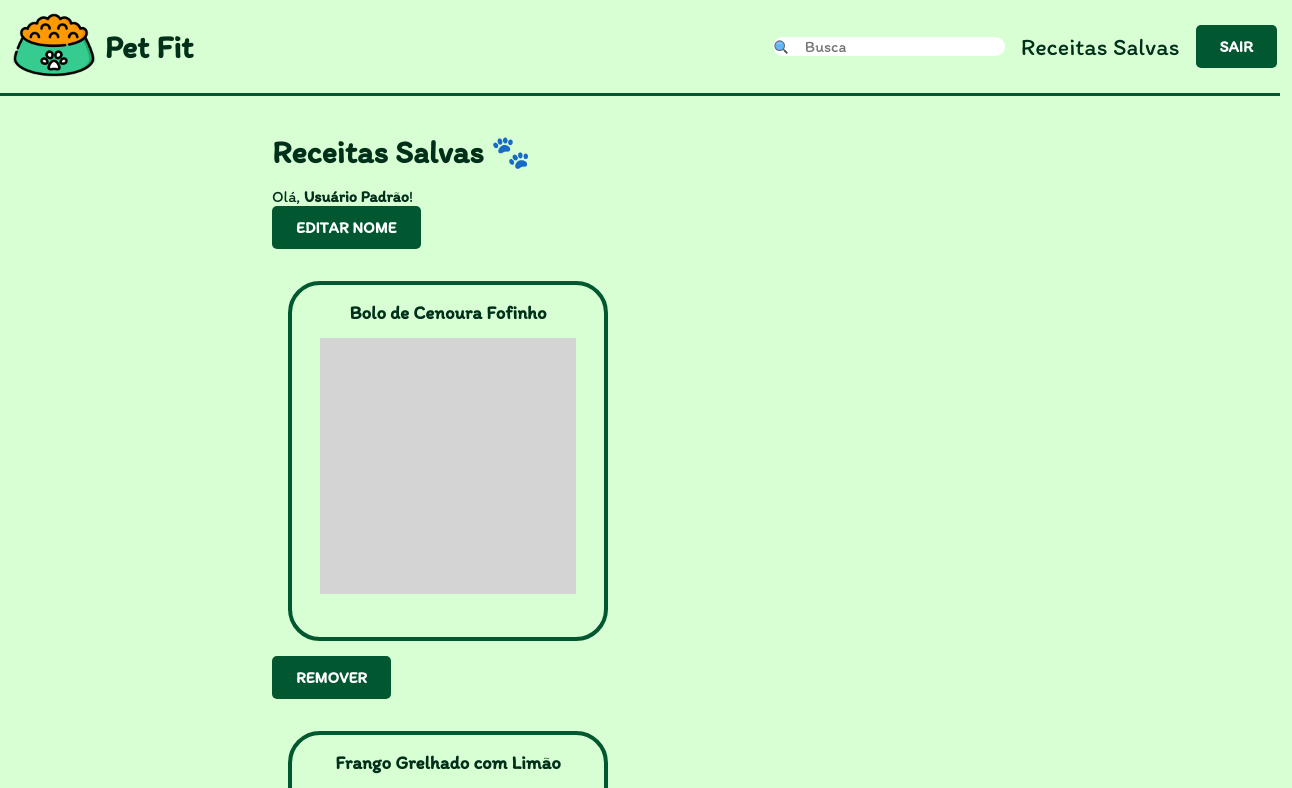
Página: SavedRecipes › deve remover uma receita da lista ao clicar em "Remover"
Expected: the heading "Bolo de Cenoura Fofinho" is shown, top-left (349, 301), bottom-right (546, 324)
What coordinates should you click on to do the following:
click the button "Remover"
I would click on:
 (331, 677)
Its box is top-left (272, 656), bottom-right (391, 698).
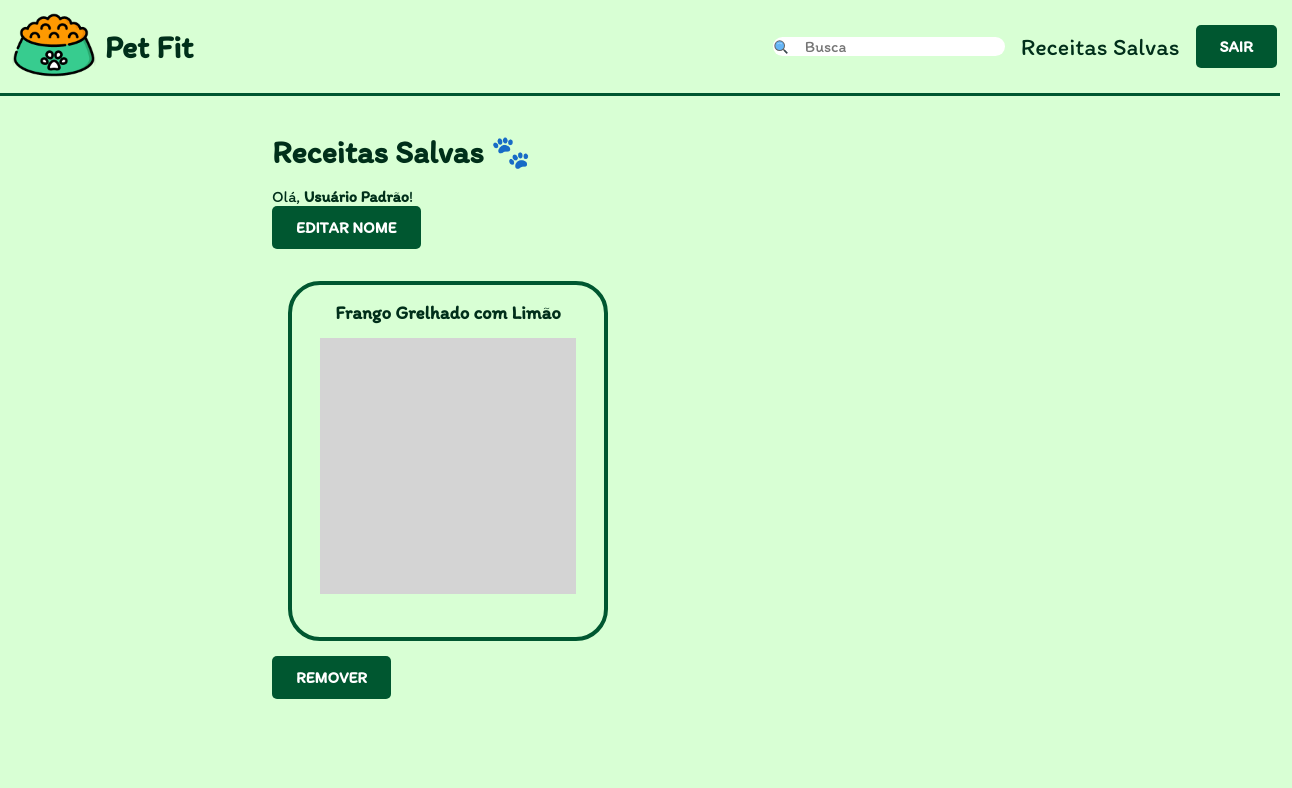
Expected: the link "Bolo de Cenoura Fofinho" is gone
